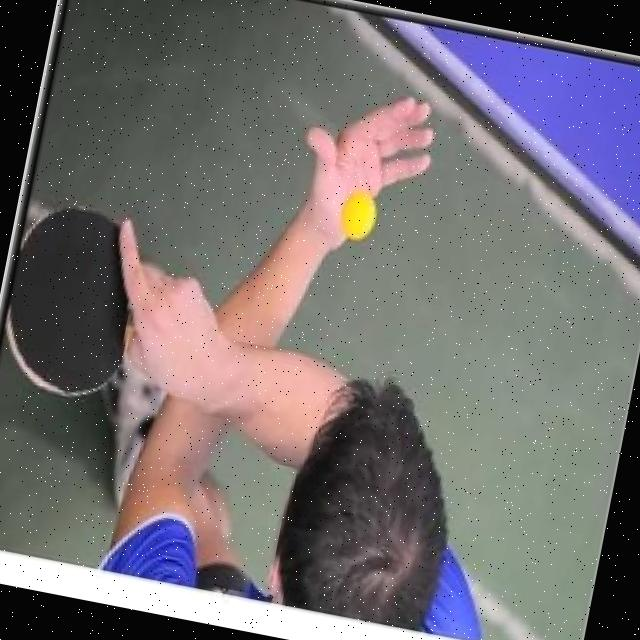ping-pong-ball: (334, 188, 380, 244)
